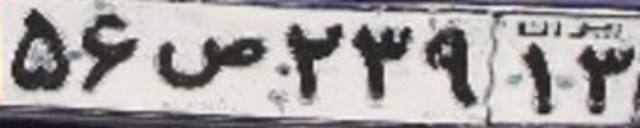1: (514, 40, 554, 113)
2: (284, 22, 342, 100)
3: (349, 24, 414, 101), (575, 44, 637, 113)
5: (8, 10, 69, 89)
6: (78, 10, 140, 91)
9: (423, 27, 480, 105)
saat: (150, 34, 266, 90)
